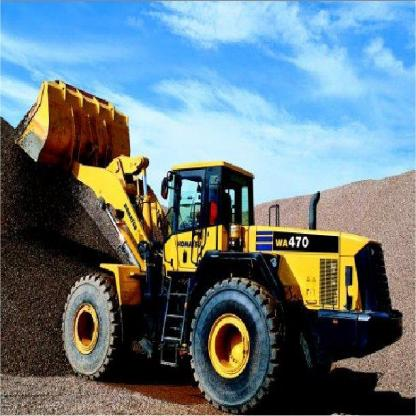bull_dozer/loader/grader: (7, 69, 404, 415)
